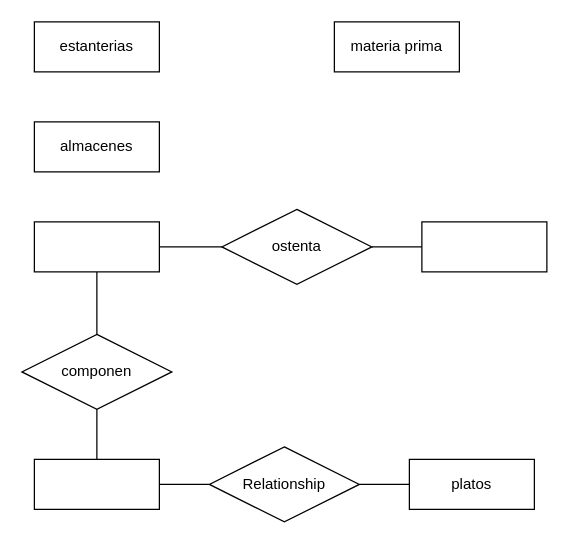
This 569x544 diagram has some shape labels left out. Each missing label, with the centre of its shape:
"cargos" belongs at [484,246].
"empleados" belongs at [96,246].
"equipos" belongs at [96,483].
